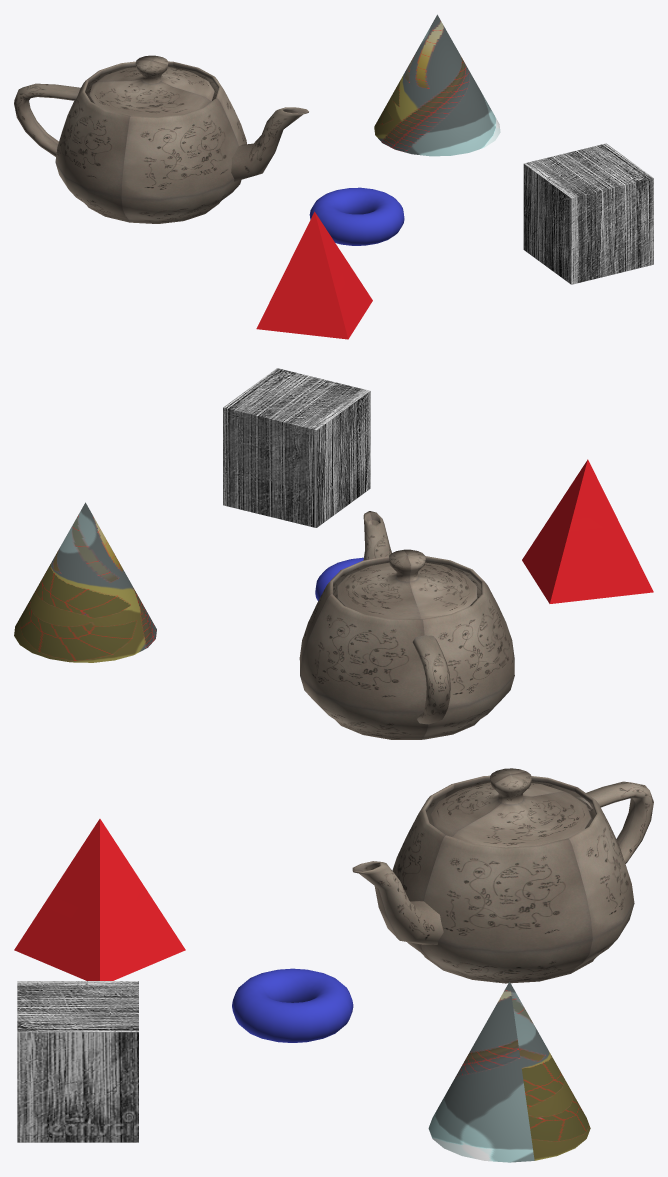
3 views of the same model, one above another, from view 1: azimuth 30°, elevation 25°; view 2: azimuth 150°, elevation 25°; view 3: azimuth 270°, elevation 25° (orthographic). The views are drawn at different scales.
Visible parts, largest first — view 1: Teapot, Cube, Cone, Pyramid, Torus; view 2: Teapot, Cube, Cone, Pyramid, Torus; view 3: Teapot, Cube, Cone, Pyramid, Torus.
Part boxes in pixels (left/top/right/bottom): Teapot: left=14, top=55, right=308, bottom=223; Cube: left=523, top=143, right=653, bottom=284; Cone: left=374, top=14, right=500, bottom=156; Pyramid: left=256, top=211, right=372, bottom=339; Torus: left=309, top=187, right=404, bottom=245; Teapot: left=299, top=511, right=514, bottom=739; Cube: left=223, top=368, right=370, bottom=527; Cone: left=14, top=502, right=156, bottom=662; Pyramid: left=522, top=459, right=653, bottom=603; Torus: left=315, top=557, right=363, bottom=600; Teapot: left=352, top=768, right=653, bottom=983; Cube: left=17, top=981, right=138, bottom=1142; Cone: left=428, top=981, right=590, bottom=1162; Pyramid: left=14, top=819, right=185, bottom=980; Torus: left=232, top=968, right=353, bottom=1042.
Bounding box in the file's own units: 15.52 × 4.81 × 15.79.
